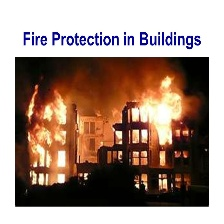fire: (24, 84, 69, 186), (117, 78, 184, 146)
